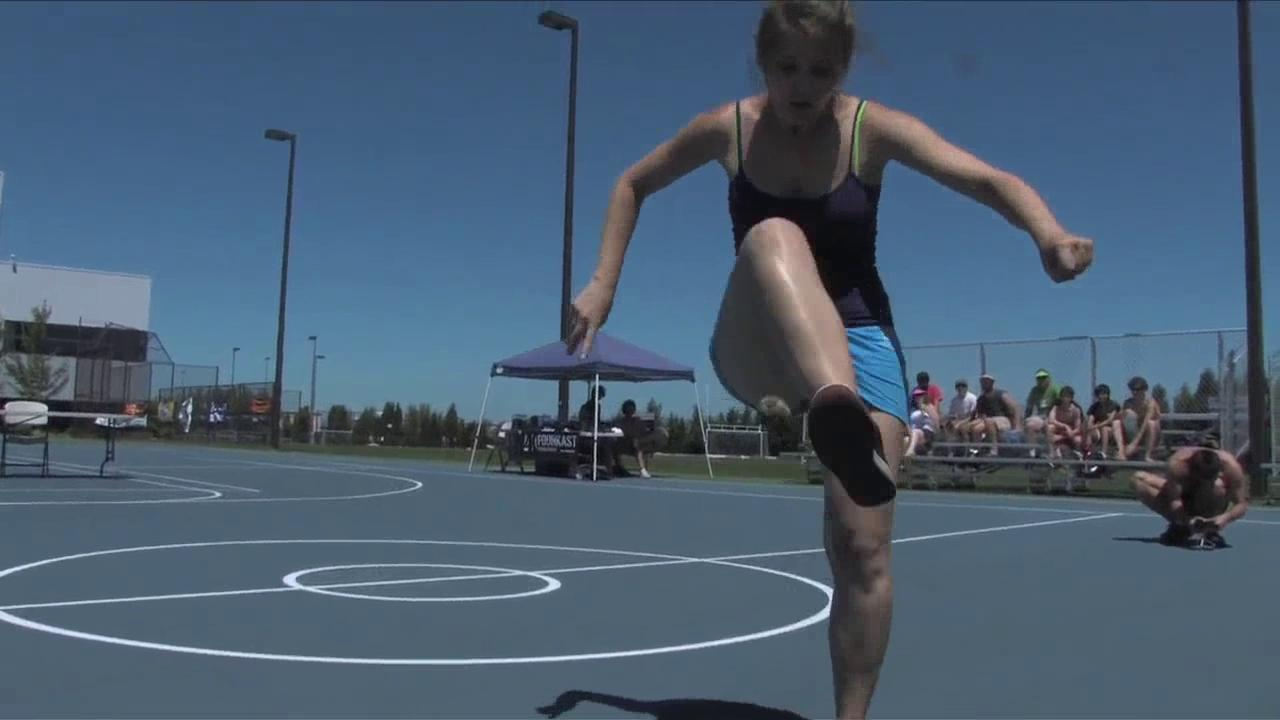victim: (562, 4, 1099, 719)
